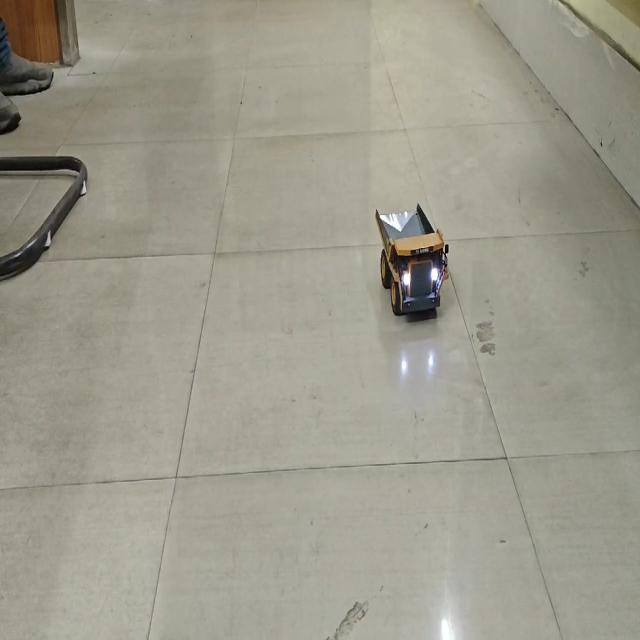dump_truck: (370, 206, 448, 321)
